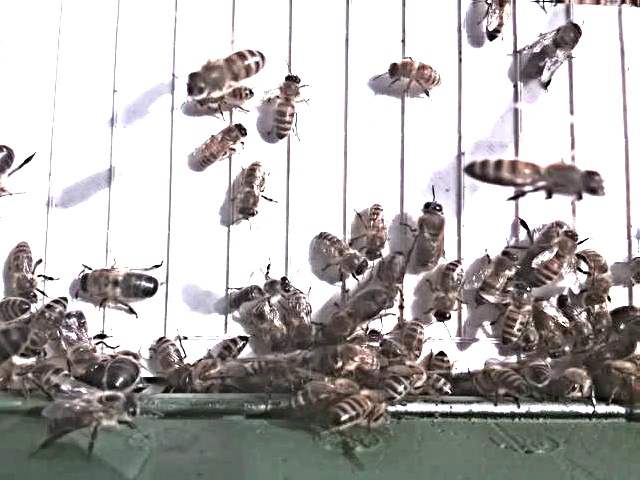Drone: (521, 17, 590, 85), (77, 264, 166, 303), (412, 196, 450, 273)
Worker: (466, 157, 609, 195), (189, 43, 270, 92), (533, 226, 582, 288), (474, 248, 520, 307), (228, 270, 296, 308), (434, 255, 468, 325), (376, 245, 409, 317), (316, 227, 366, 272), (273, 69, 304, 141), (10, 234, 40, 308), (500, 285, 534, 350), (581, 244, 615, 309), (196, 123, 247, 165), (388, 56, 448, 91), (235, 158, 267, 222), (365, 200, 390, 260)
